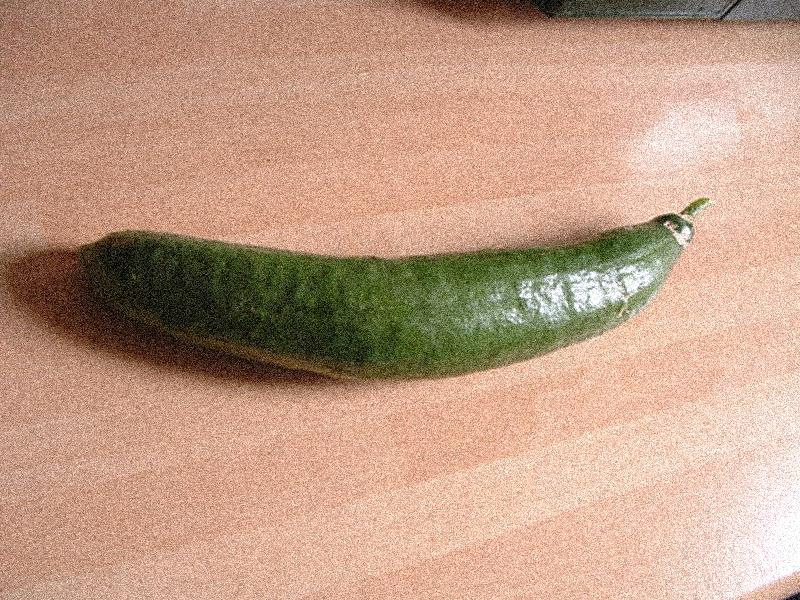Cucumber: (74, 198, 711, 384)
